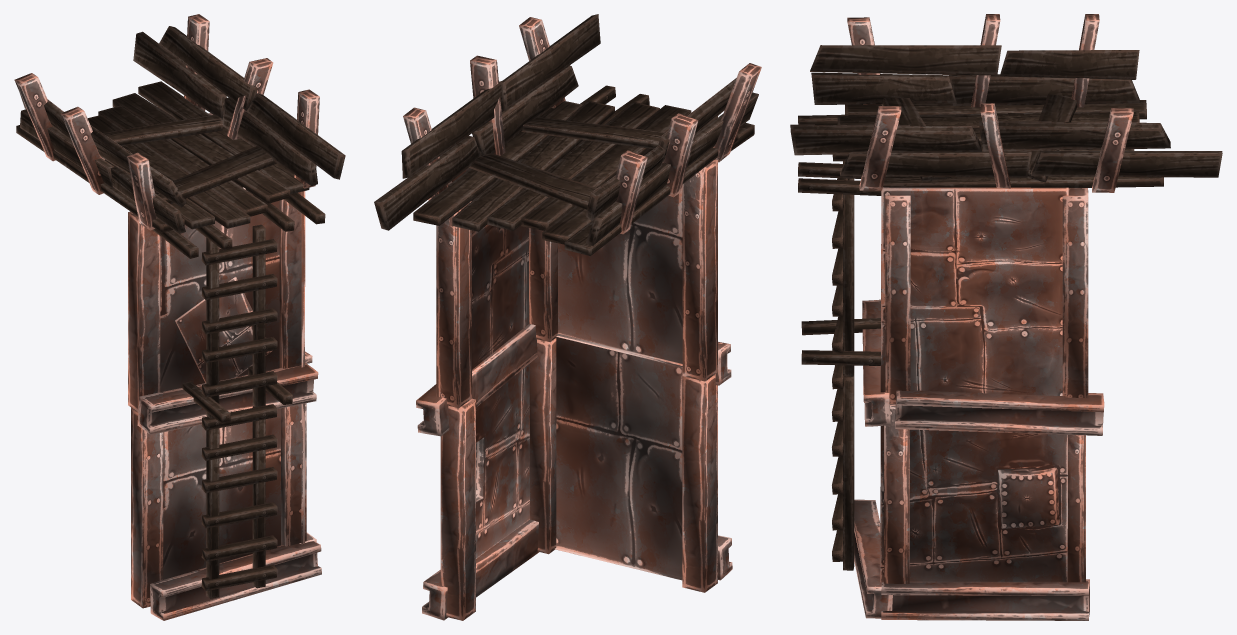
Rendered from rpop_estructura_orka_v02.gltf.
3 views of the same model, side by side, from view 1: azimuth 30°, elevation 25°; view 2: azimuth 150°, elevation 25°; view 3: azimuth 270°, elevation 25° (orthographic). The views are drawn at different scales.
Visible parts, largest first — view 1: Pared_frontal_low.002; view 2: Pared_frontal_low.002; view 3: Pared_frontal_low.002.
Part boxes in pixels (bbox=[...]): Pared_frontal_low.002: bbox=[14, 14, 345, 620]; Pared_frontal_low.002: bbox=[374, 14, 761, 620]; Pared_frontal_low.002: bbox=[790, 14, 1222, 620].
Bounding box in the file's own units: 3.63 × 8.03 × 6.16.
